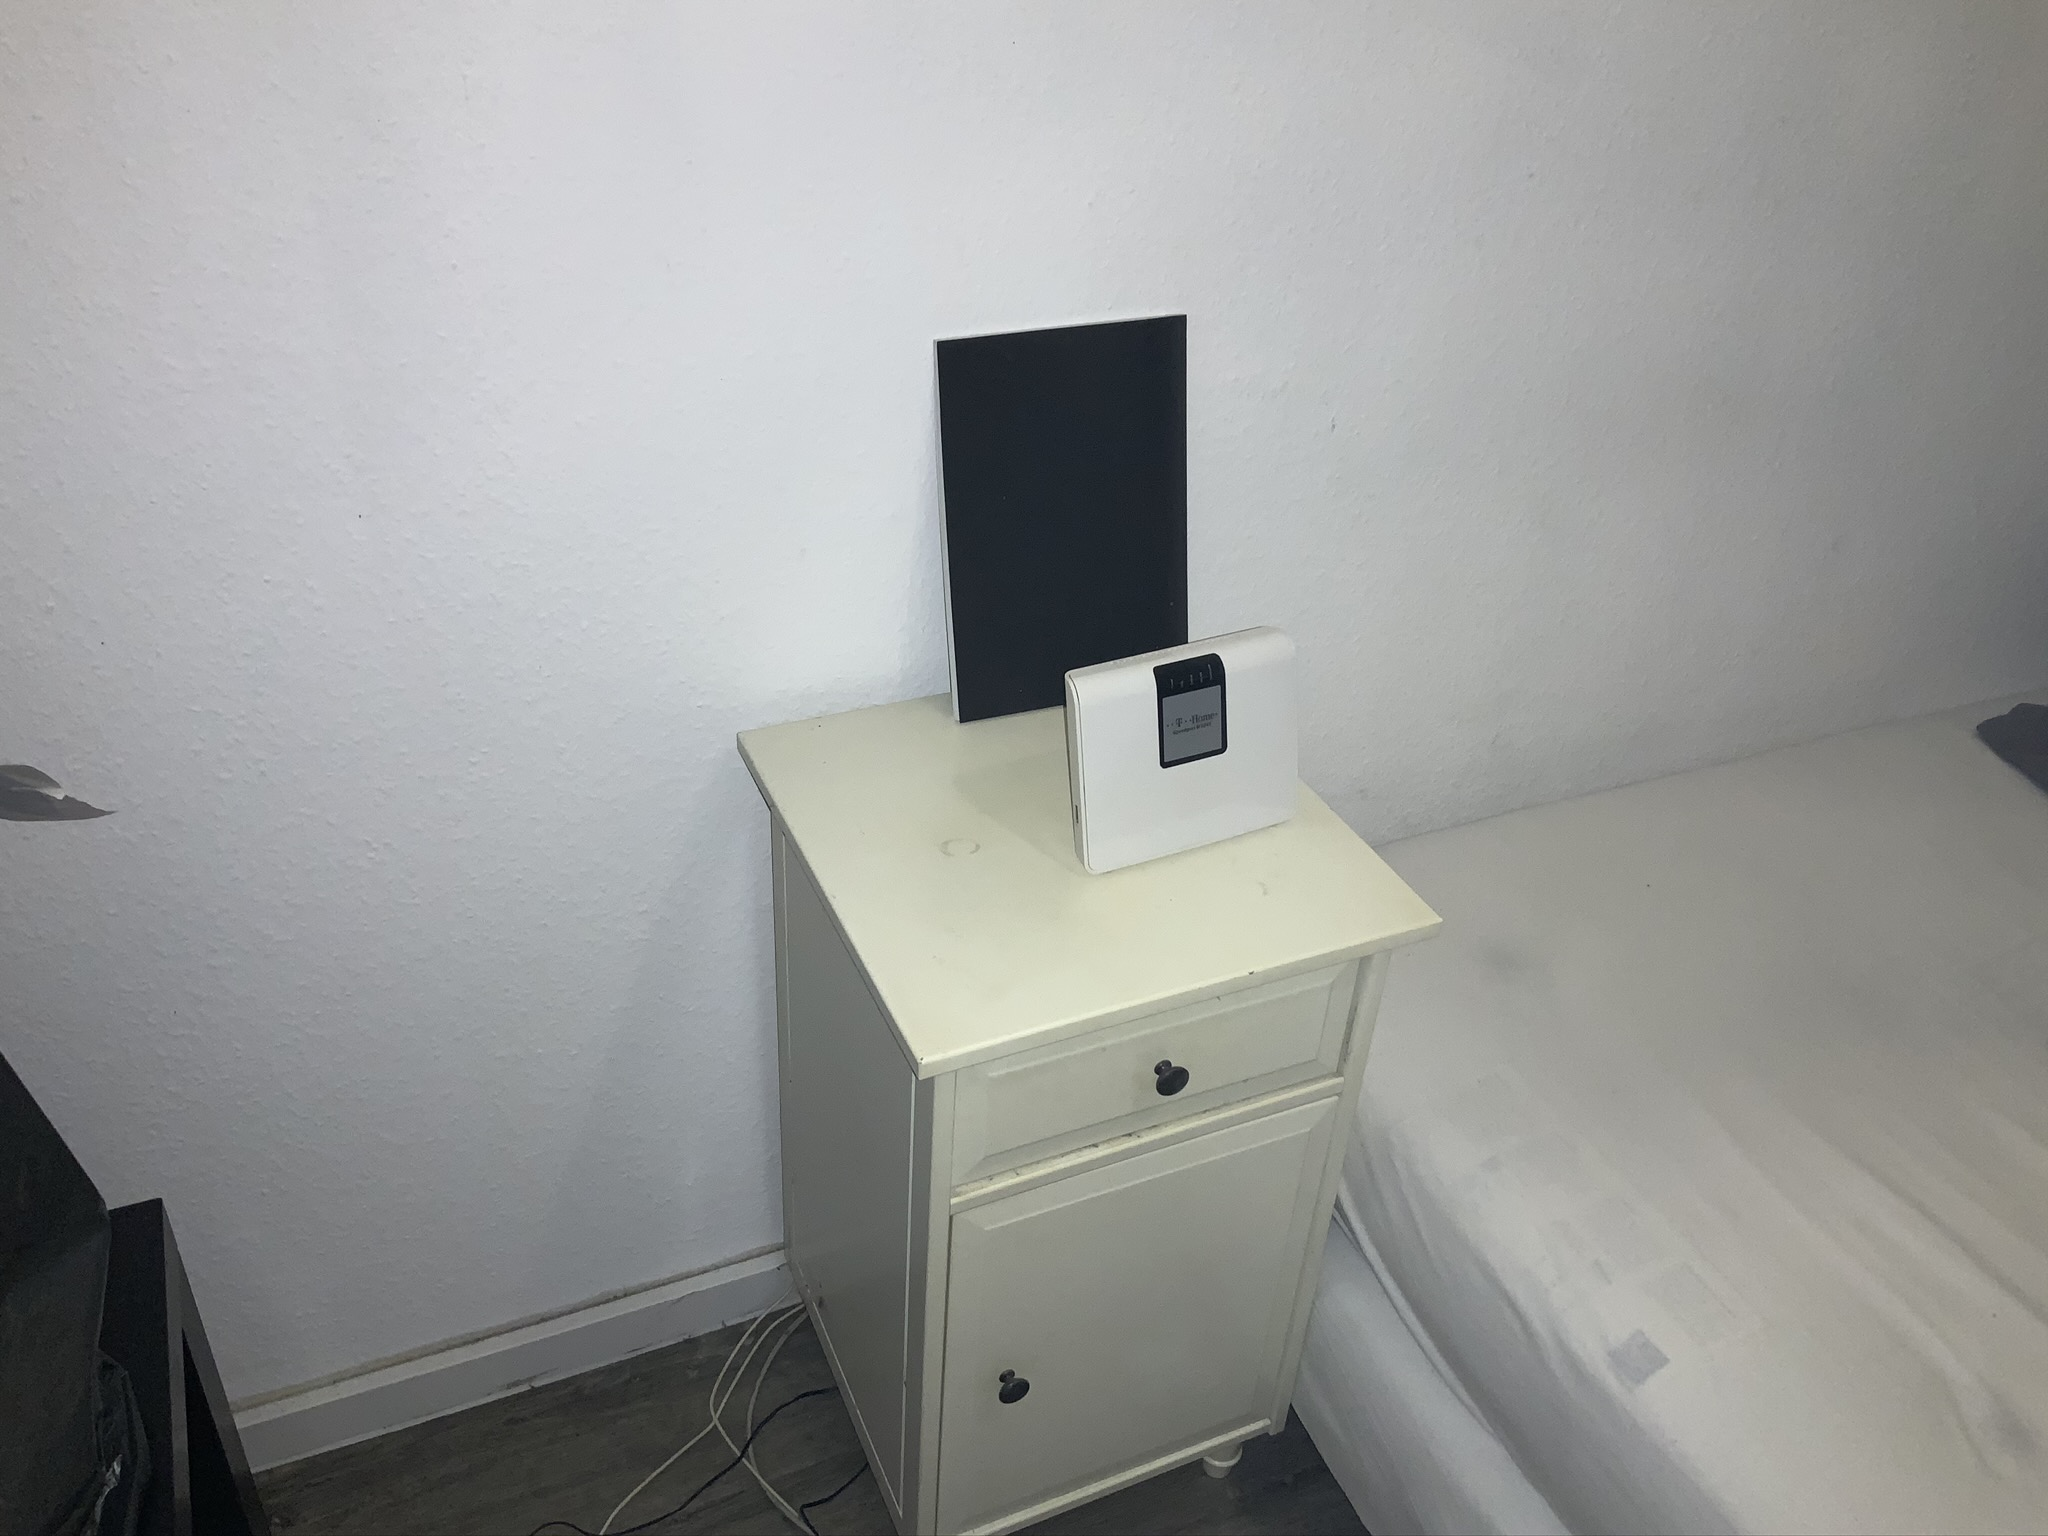Router2: (1055, 618, 1313, 883)
